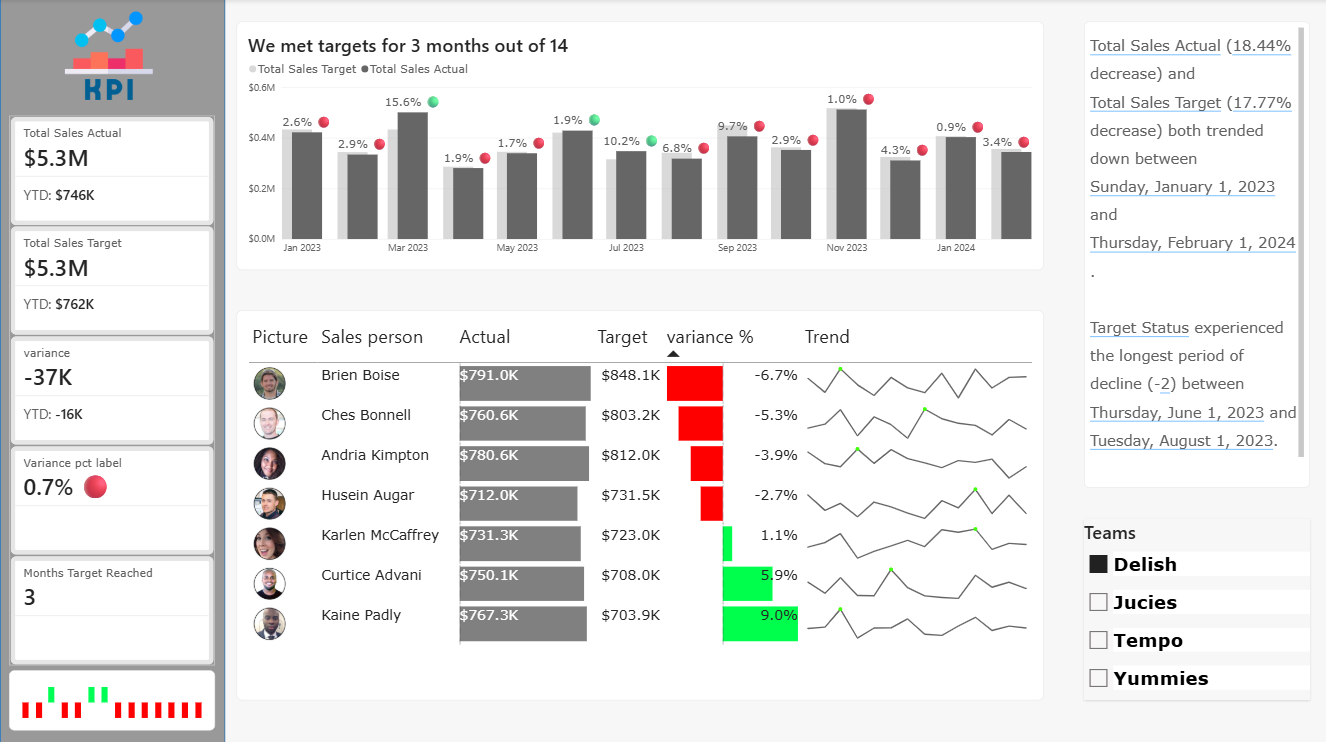

This screenshot's page, from the dashboard's own definition file:
{"tool":"powerbi","page":{"name":"Page 1","canvas":[1920,1080],"ordinal":0},"visuals":[{"type":"shape","box":[1.8,0,325.7,1080.4],"z":0},{"type":"cardVisual","fields":{"Data":["Actual.Total Sales Actual","Actual.Total Sales Target","Actual.variance","Actual.Variance pct label","Actual.Months Target Reached"]},"box":[14.5,168.3,298.6,801.7],"z":1000},{"type":"columnChart","fields":{"Category":["Calendar.Date"],"Y":["Actual.Target Status"]},"box":[14.5,971.8,298.6,86.9],"z":2000},{"type":"clusteredColumnChart","fields":{"Category":["Calendar.Date"],"Y":["Actual.Total Sales Target","Actual.Total Sales Actual"]},"box":[343.8,32.6,1169,360.1],"z":3000},{"type":"slicer","title":"Teams","fields":{"Values":["dimPeople.Team"]},"box":[1570.8,752.8,327.5,262.4],"z":4000},{"type":"tableEx","fields":{"Values":["dimPeople.Picture","dimPeople.Sales person","Actual.Total Sales Actual","Actual.Total Sales Target","Actual.variance %","SparklineData(Actual.Total Sales Actual_[Calendar.Date])"]},"box":[343.8,450.6,1169,564.6],"z":5000},{"type":"textbox","box":[1570.8,32.6,327.5,675],"z":6000},{"type":"image","box":[77.9,17.3,162.3,127.7],"z":6001}]}

Visuals, with their boxes in screenshot pixels (x1, y1, x2, y2), scaled from the page's 1920x1080 canvas onto the 1326x742 screenshot:
shape: [x1=1, y1=0, x2=226, y2=741]
cardVisual - Actual.Total Sales Actual x Actual.Total Sales Target: [x1=10, y1=116, x2=216, y2=666]
columnChart - Calendar.Date x Actual.Target Status: [x1=10, y1=668, x2=216, y2=727]
clusteredColumnChart - Calendar.Date x Actual.Total Sales Target: [x1=237, y1=22, x2=1045, y2=270]
"Teams" slicer: [x1=1085, y1=517, x2=1311, y2=697]
tableEx - dimPeople.Picture x dimPeople.Sales person: [x1=237, y1=310, x2=1045, y2=697]
textbox: [x1=1085, y1=22, x2=1311, y2=486]
image: [x1=54, y1=12, x2=166, y2=100]
